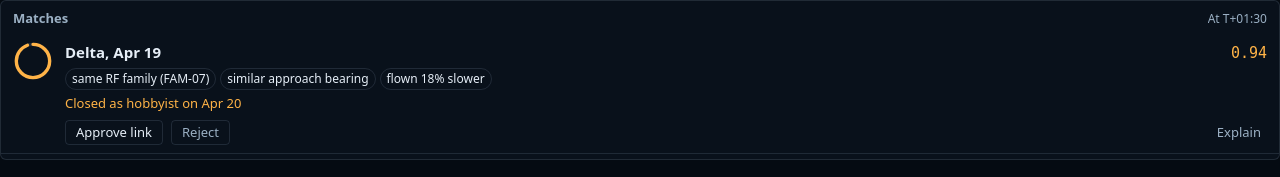
Test: MatchList › approve posts the decision at the replay clock, turns the ring green, adds a block
The width and height of the screenshot is (1280, 177).
Click the button with aria-label "Approve link: Delta, Apr 19". click: [114, 132]
box: 65,120 -> 163,145
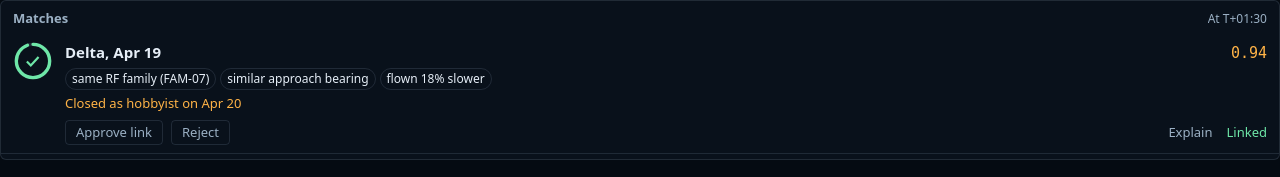
Check: the text with test id "match-decision" reads "Linked", box 1226,122 -> 1267,140
Check: the button "Approve link" is disabled, box 65,120 -> 163,145
